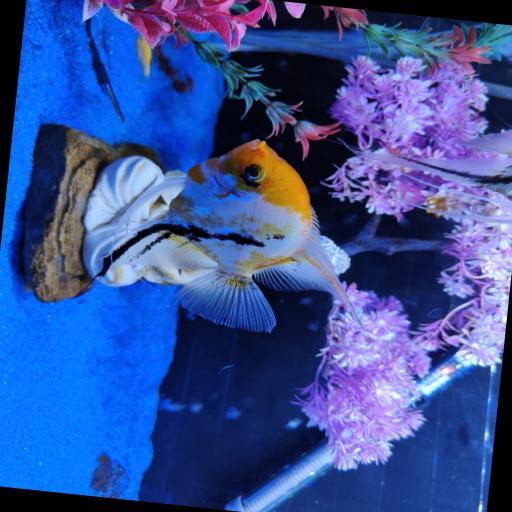Fish: (97, 139, 357, 331), (359, 126, 511, 205), (135, 35, 151, 75)
